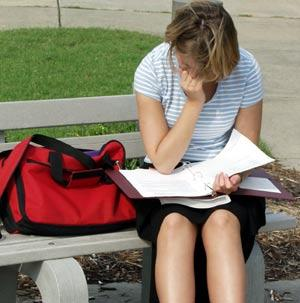person: (133, 2, 268, 303)
